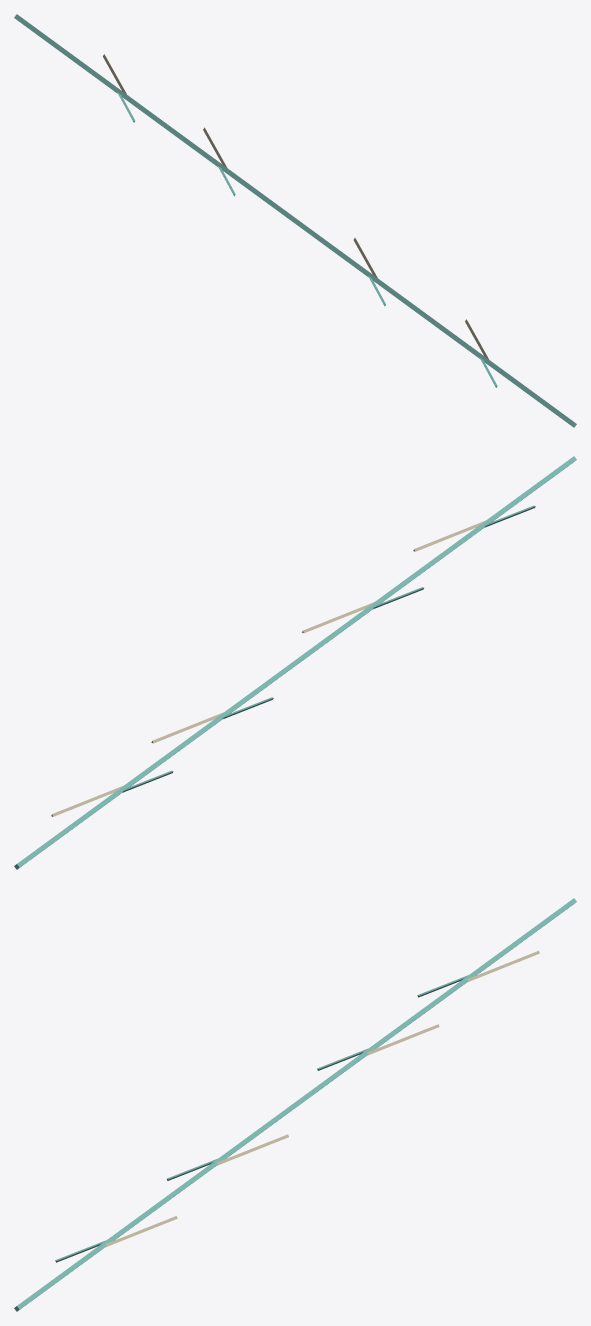
The model's file is space_mycelium_lane.glb.
3 views of the same model, one above another, from view 1: azimuth 30°, elevation 25°; view 2: azimuth 150°, elevation 25°; view 3: azimuth 330°, elevation 25° (orthographic).
Visible parts, largest first — view 1: FixedDetails; view 2: FixedDetails; view 3: FixedDetails.
Part boxes in pixels (x1,y1,x2,y2): FixedDetails: [14, 14, 576, 427]; FixedDetails: [14, 456, 576, 869]; FixedDetails: [14, 898, 576, 1311].
Size of the model in its own units: 0.0495 by 0.006 by 1.
